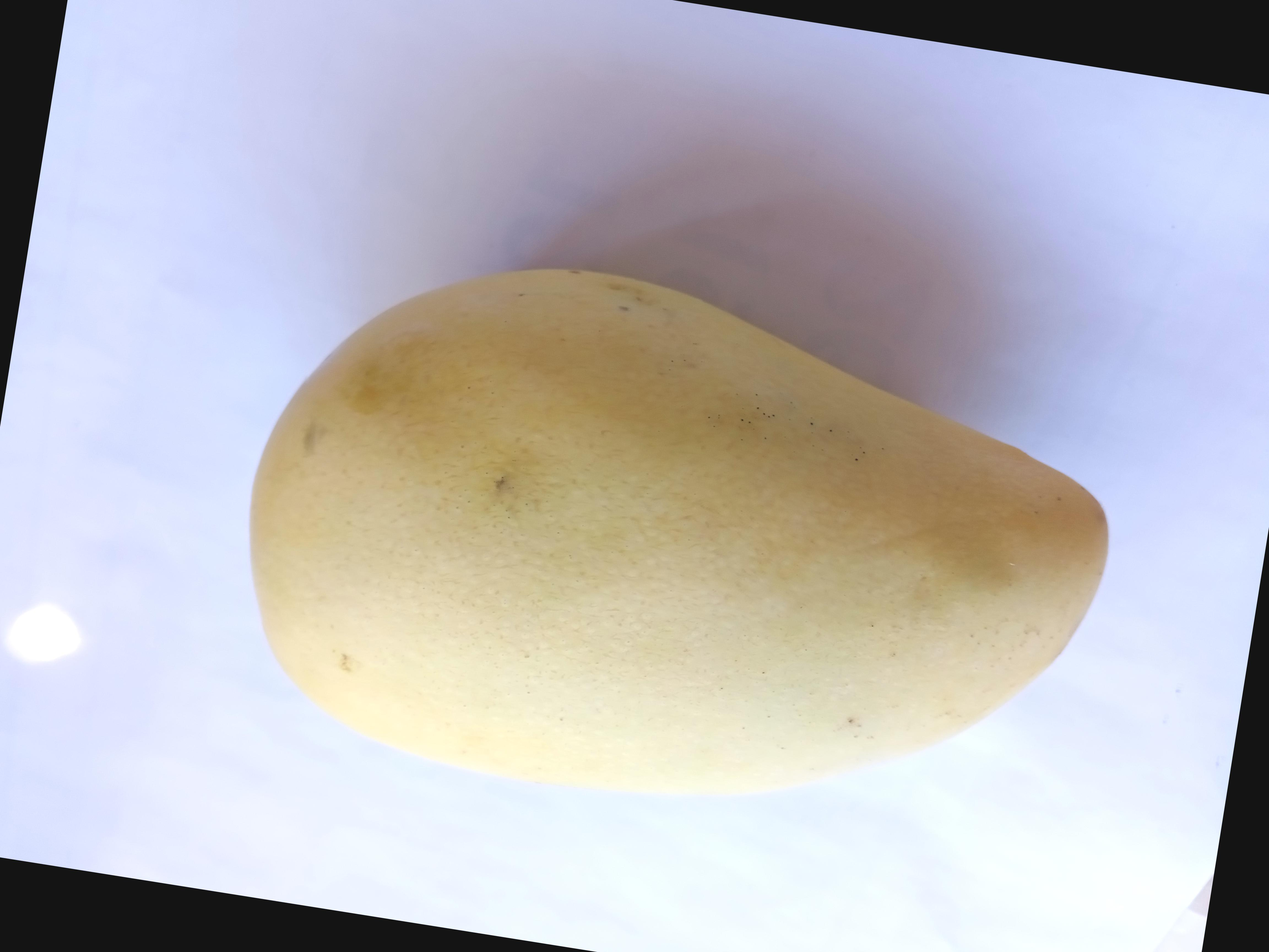Mango Ripe: (270, 81, 1268, 809)
